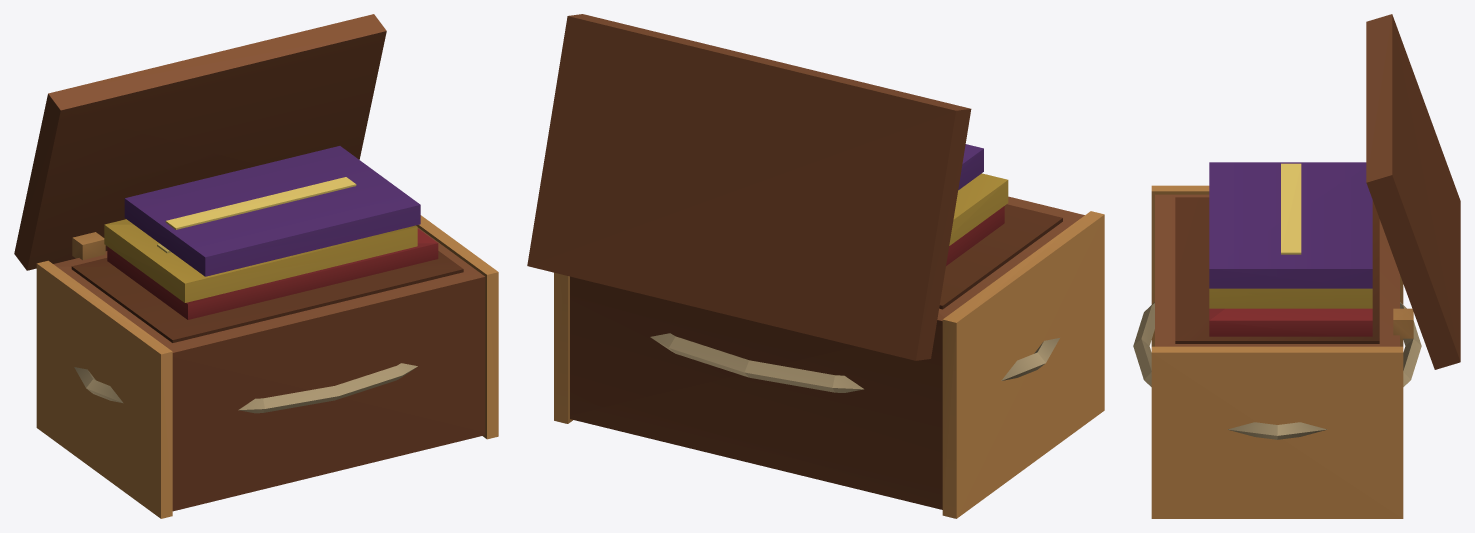
The picture shows the model from 3 angles, left to right: view 1: azimuth 30°, elevation 25°; view 2: azimuth 150°, elevation 25°; view 3: azimuth 270°, elevation 25°; orthographic projection. The views are drawn at different scales.
Parts seen in each view (by area): view 1: base; view 2: base; view 3: base.
Part boxes in pixels (box(x1,y1,x2,y2)): base: box(14, 14, 498, 518); base: box(527, 14, 1104, 518); base: box(1133, 14, 1460, 518).
Bounding box in the file's own units: 0.624 × 0.5532 × 0.4813.
